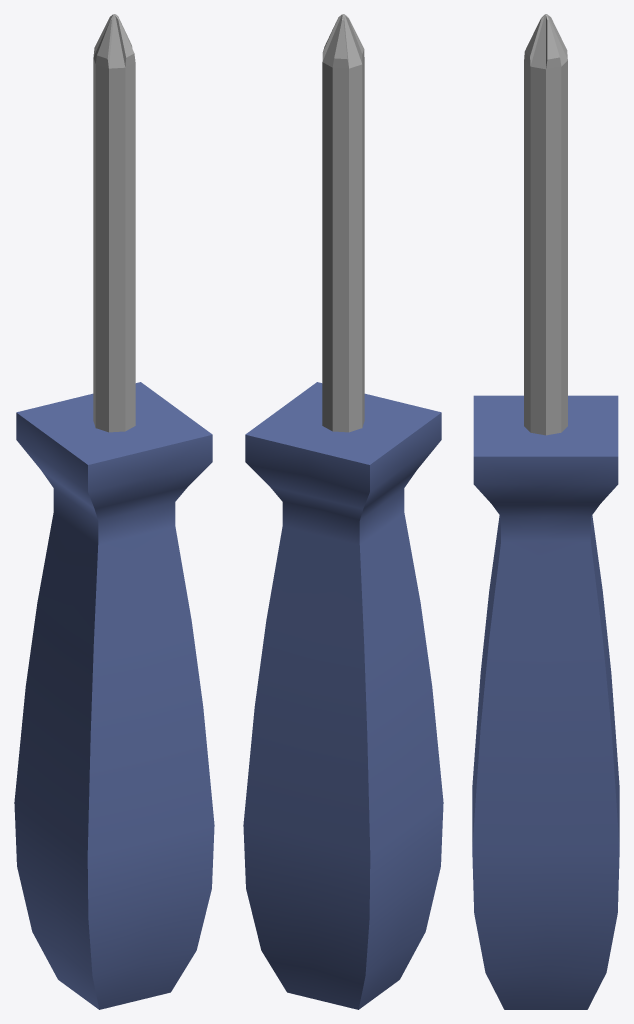
File: Philip Screwdriver.fbx
3 renders of one model, left to right at view 1: azimuth 30°, elevation 25°; view 2: azimuth 150°, elevation 25°; view 3: azimuth 270°, elevation 25°, orthographic.
Parts seen in each view (by area): view 1: Philip_Screwdriver; view 2: Philip_Screwdriver; view 3: Philip_Screwdriver.
Boxes of the visible parts, x1,y1,x2,y2 form: Philip_Screwdriver: (14,14,214,1009); Philip_Screwdriver: (243,14,443,1009); Philip_Screwdriver: (472,14,619,1009).
Bounding box in the file's own units: 0.0784 × 0.5735 × 0.0784.
